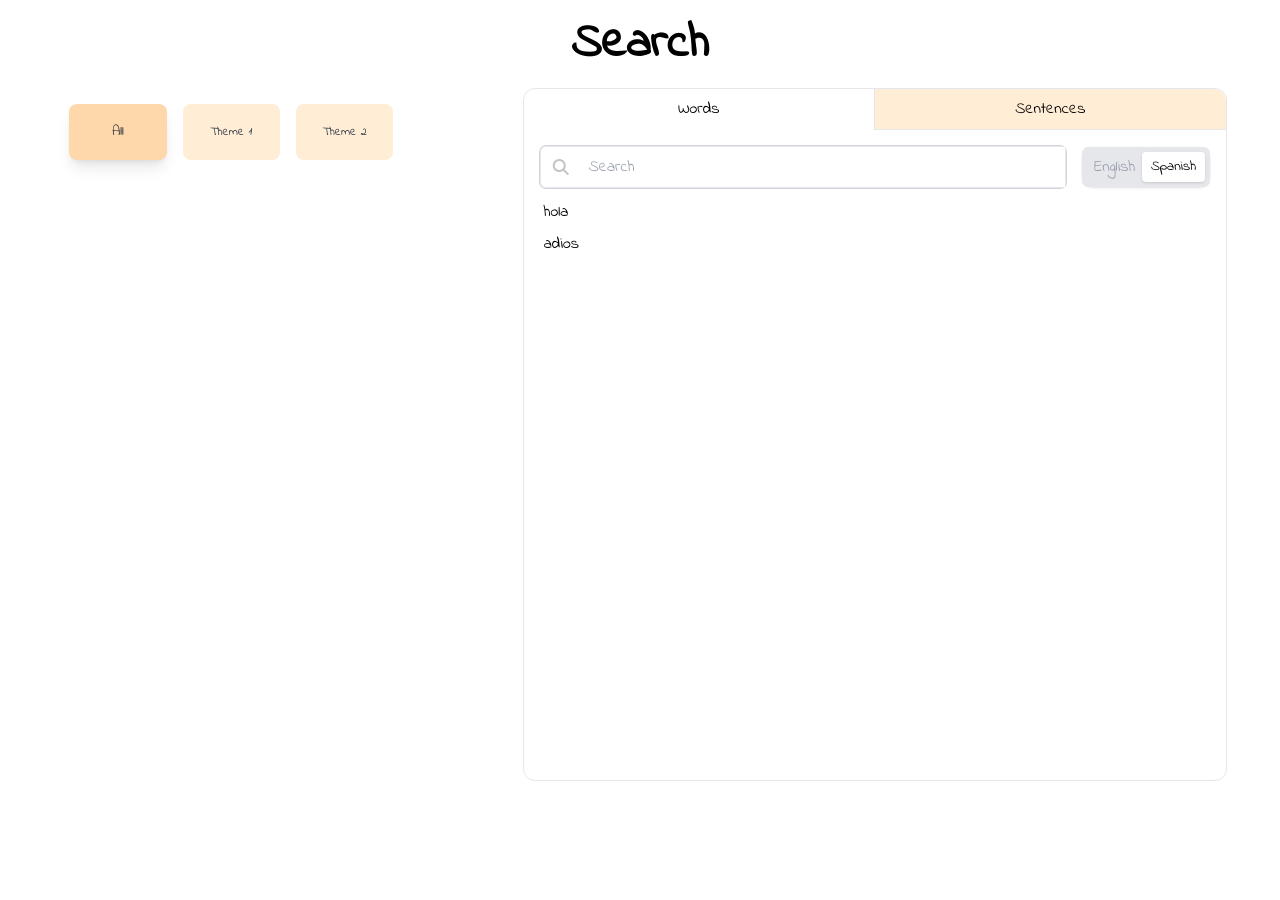
Test: SearchList › filters the list by search query
This screenshot has width=1280, height=900.
Expected: the text "adios" is shown, [544, 232, 579, 256]
Type "Hola" into the field with placeholder "Search" at (823, 167), box [581, 147, 1065, 187]
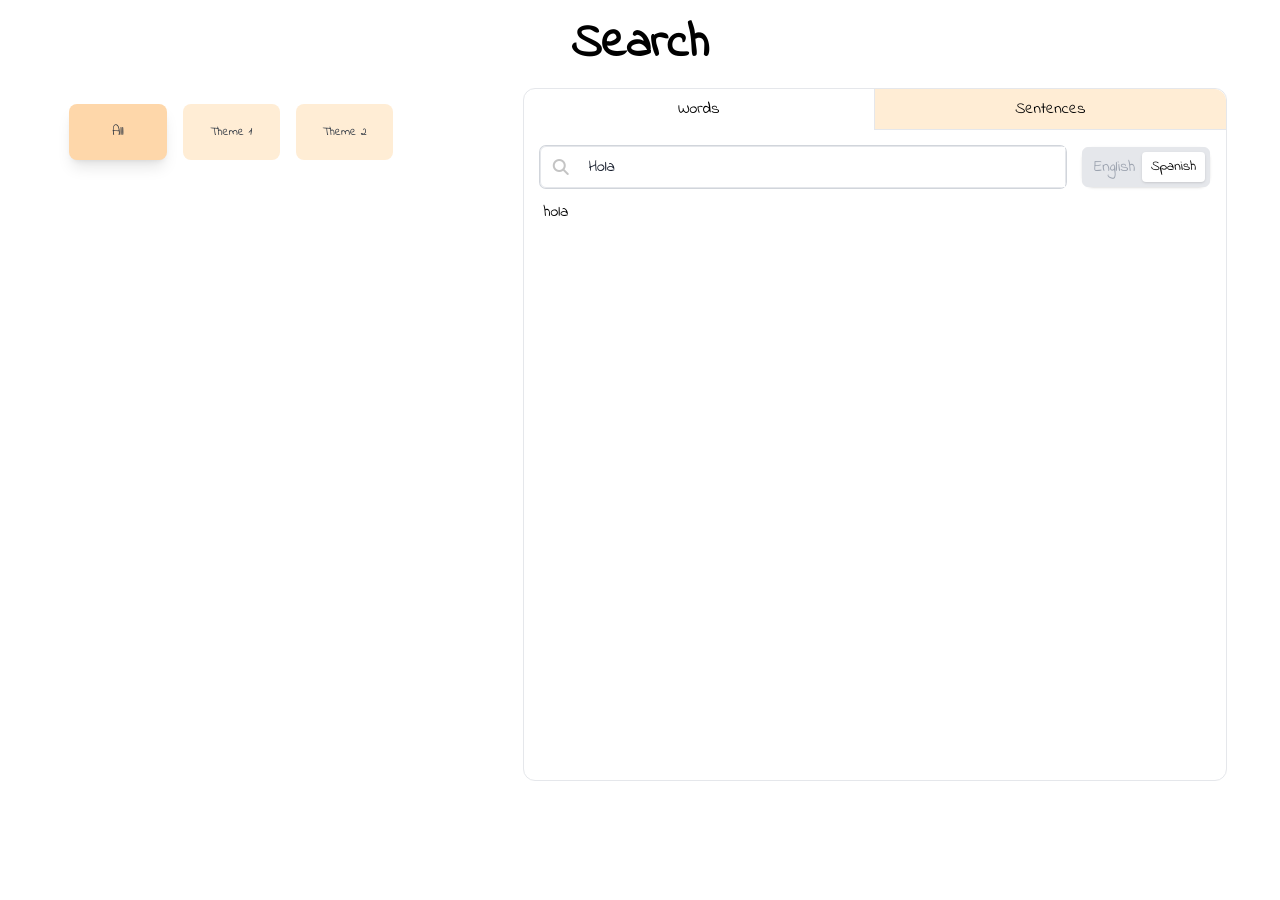
Expected: the text "hola" is shown, [544, 200, 568, 224]
Expected: the text "adios" is gone
